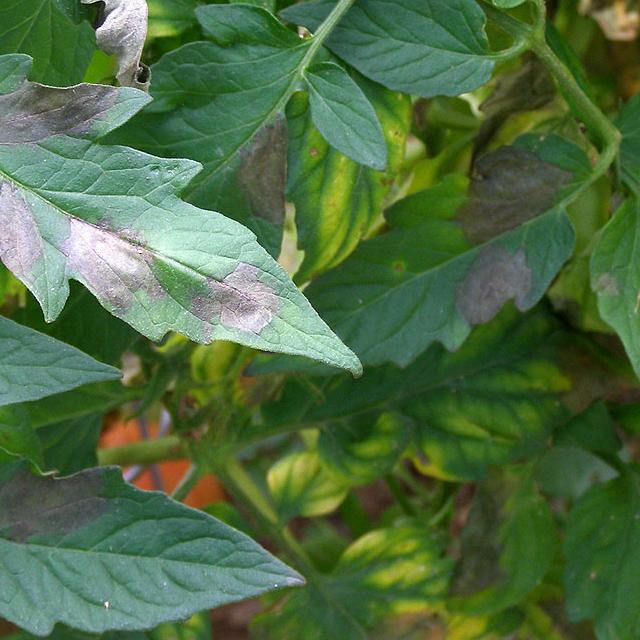Tomato leaf late blight: (0, 78, 357, 360), (282, 120, 593, 364), (0, 452, 317, 640), (579, 72, 640, 552), (421, 0, 554, 20)
